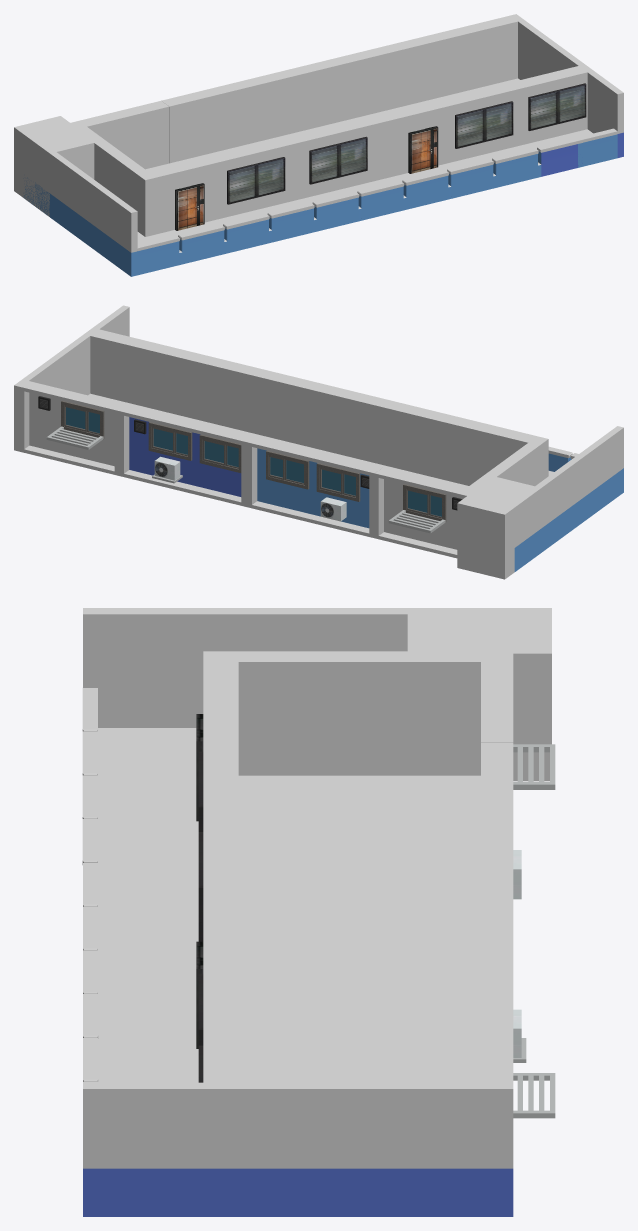
The model's file is Blue_HDB_level.fbx.
3 renders of one model, top to bottom at view 1: azimuth 30°, elevation 25°; view 2: azimuth 150°, elevation 25°; view 3: azimuth 270°, elevation 25°, orthographic. The views are drawn at different scales.
Parts seen in each view (by area): view 1: front_wall, wall2, wall1, wall_side, wall3, lift, wall_side_r, floor, wall3_ncl1_1, wall_room, wall_corridor8, wall_corridor9 (+11 smaller); view 2: front_wall, wall_side, wall2, wall1, lift, wall3, wall3_ncl1_1, wall_side_r, wall_room, floor, hanging_rack, hanging_rack6 (+15 smaller); view 3: floor, wall_side_r, wall_room, wall_side, front_wall, lift, wall2, wall1, wall3, wall3_ncl1_1, hanging_rack6, hanging_rack (+4 smaller).
Part boxes in pixels (x1,y1,x2,y2): front_wall: (136, 66, 587, 236); wall2: (161, 70, 295, 163); wall1: (288, 39, 421, 132); wall_side: (23, 133, 137, 276); wall3: (413, 15, 518, 101); lift: (14, 116, 94, 216); wall_side_r: (510, 14, 623, 157); floor: (137, 78, 592, 244); wall3_ncl1_1: (69, 101, 169, 169); wall_room: (73, 125, 156, 236); wall_corridor8: (357, 169, 451, 220); wall_corridor9: (447, 148, 541, 198); front_wall: (90, 329, 548, 485); wall_side: (508, 426, 623, 571); wall2: (246, 436, 382, 538); wall1: (118, 405, 254, 506); lift: (457, 476, 540, 579); wall3: (20, 381, 126, 475); wall3_ncl1_1: (374, 467, 476, 558); wall_side_r: (14, 305, 129, 451); wall_room: (466, 436, 547, 490); floor: (88, 393, 553, 487); hanging_rack: (46, 426, 103, 449); hanging_rack6: (388, 510, 445, 533); floor: (98, 728, 480, 1082); wall_side_r: (83, 1082, 513, 1216); wall_room: (203, 651, 494, 775); wall_side: (83, 608, 513, 727); front_wall: (203, 651, 238, 1083); lift: (407, 608, 551, 781); wall2: (481, 742, 513, 865); wall1: (481, 865, 513, 988); wall3: (481, 988, 513, 1083); wall3_ncl1_1: (481, 652, 513, 742); hanging_rack6: (513, 744, 555, 789); hanging_rack: (513, 1073, 555, 1118).
Size of the model in its own units: 34.36 by 4.26 by 14.27.
